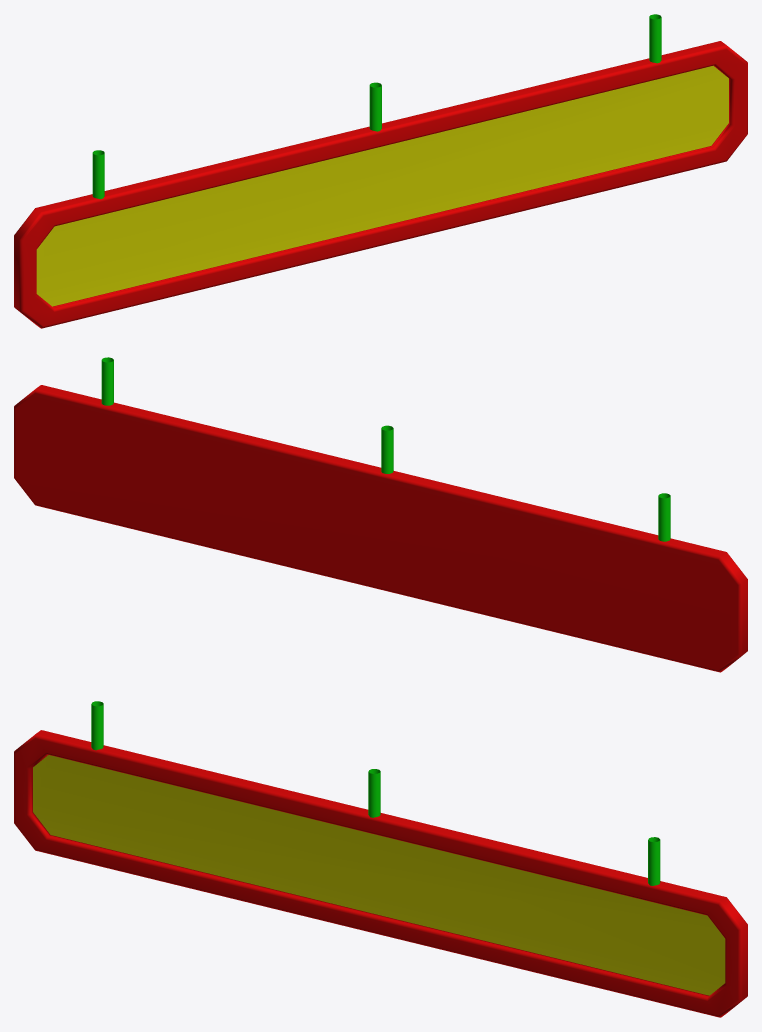
Rendered from Roof_Sign.fbx.
The picture shows the model from 3 angles, top to bottom: view 1: azimuth 30°, elevation 25°; view 2: azimuth 150°, elevation 25°; view 3: azimuth 330°, elevation 25°; orthographic projection.
Parts seen in each view (by area): view 1: Roof_Sign; view 2: Roof_Sign; view 3: Roof_Sign.
Boxes of the visible parts, bbox=[...] form: Roof_Sign: bbox=[14, 14, 747, 328]; Roof_Sign: bbox=[14, 357, 747, 672]; Roof_Sign: bbox=[14, 701, 747, 1017].
Size of the model in its own units: 947 by 199 by 18.73.
